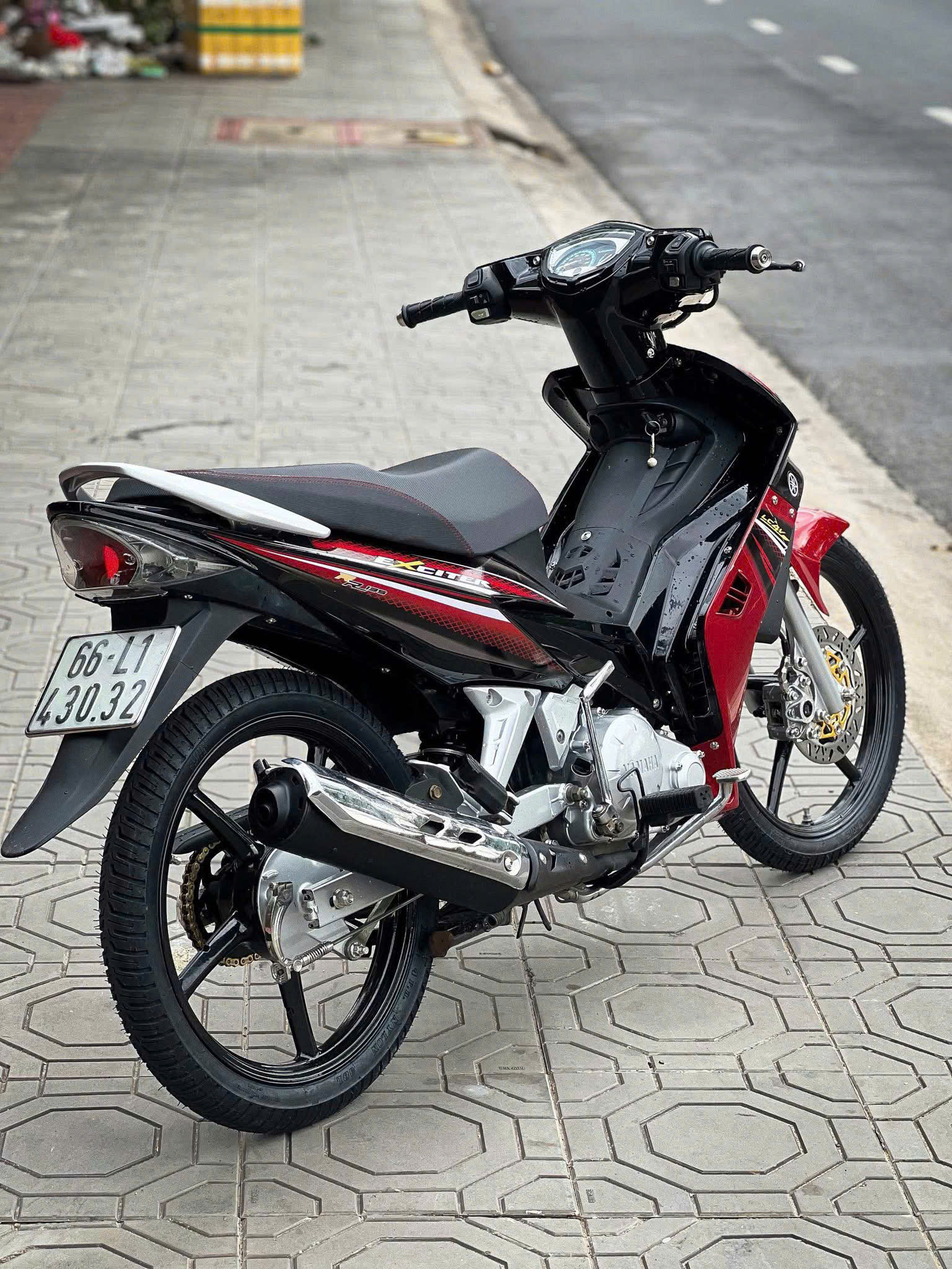Bien-so: (26, 629, 184, 732)
